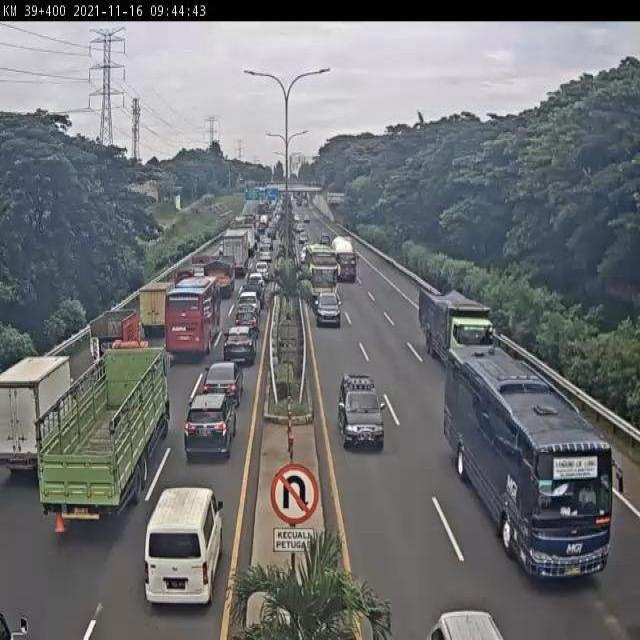car: (144, 490, 219, 606), (335, 373, 385, 448), (180, 396, 235, 464), (203, 364, 244, 405), (221, 329, 253, 368), (314, 288, 341, 327), (232, 308, 259, 335), (236, 288, 261, 316)
truck: (441, 348, 609, 584), (41, 347, 168, 524), (0, 357, 73, 484), (419, 292, 495, 372), (162, 275, 217, 355), (85, 308, 140, 359), (137, 281, 175, 340), (306, 243, 344, 301), (198, 259, 234, 299)
